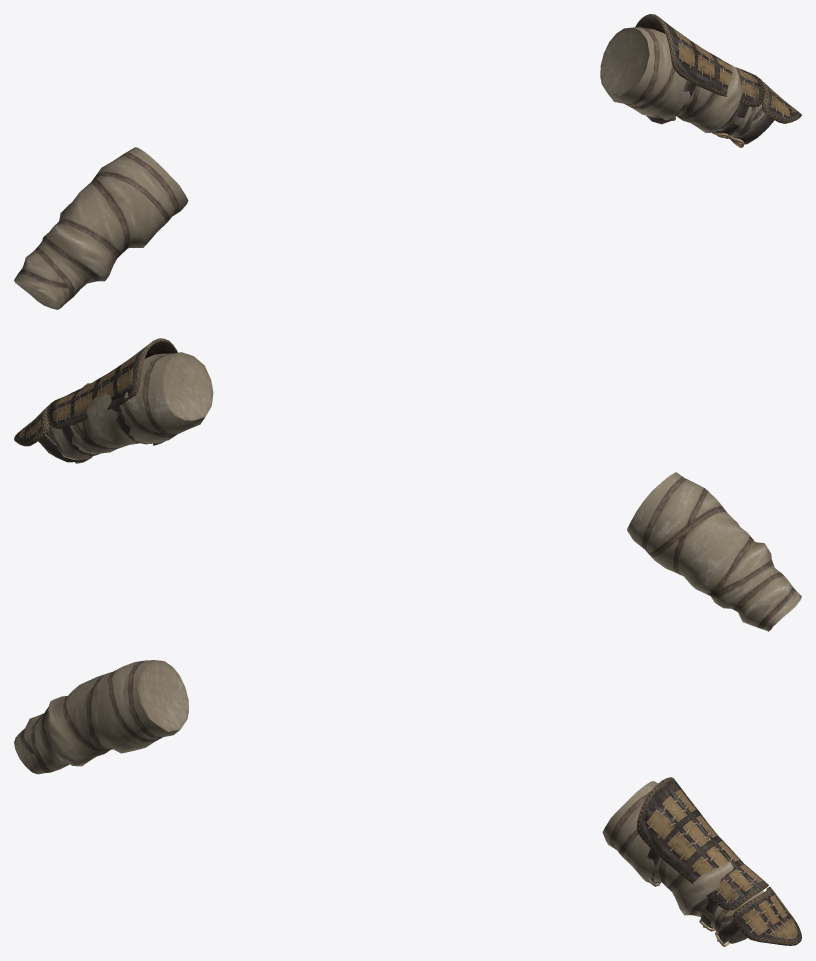
Rendered from dunland_wulf_bracer_medium_a.fbx.
3 renders of one model, top to bottom at view 1: azimuth 30°, elevation 25°; view 2: azimuth 150°, elevation 25°; view 3: azimuth 330°, elevation 25°, orthographic.
Parts seen in each view (by area): view 1: dunland_wulf_bracer_medium_a; view 2: dunland_wulf_bracer_medium_a; view 3: dunland_wulf_bracer_medium_a.
Part boxes in pixels (x1=…): dunland_wulf_bracer_medium_a: x1=14, y1=14, x2=801, y2=309; dunland_wulf_bracer_medium_a: x1=14, y1=338, x2=801, y2=631; dunland_wulf_bracer_medium_a: x1=14, y1=660, x2=801, y2=946.
Bounding box in the file's own units: 1.44 × 0.1438 × 0.2511.
1 material, 1 textured.
